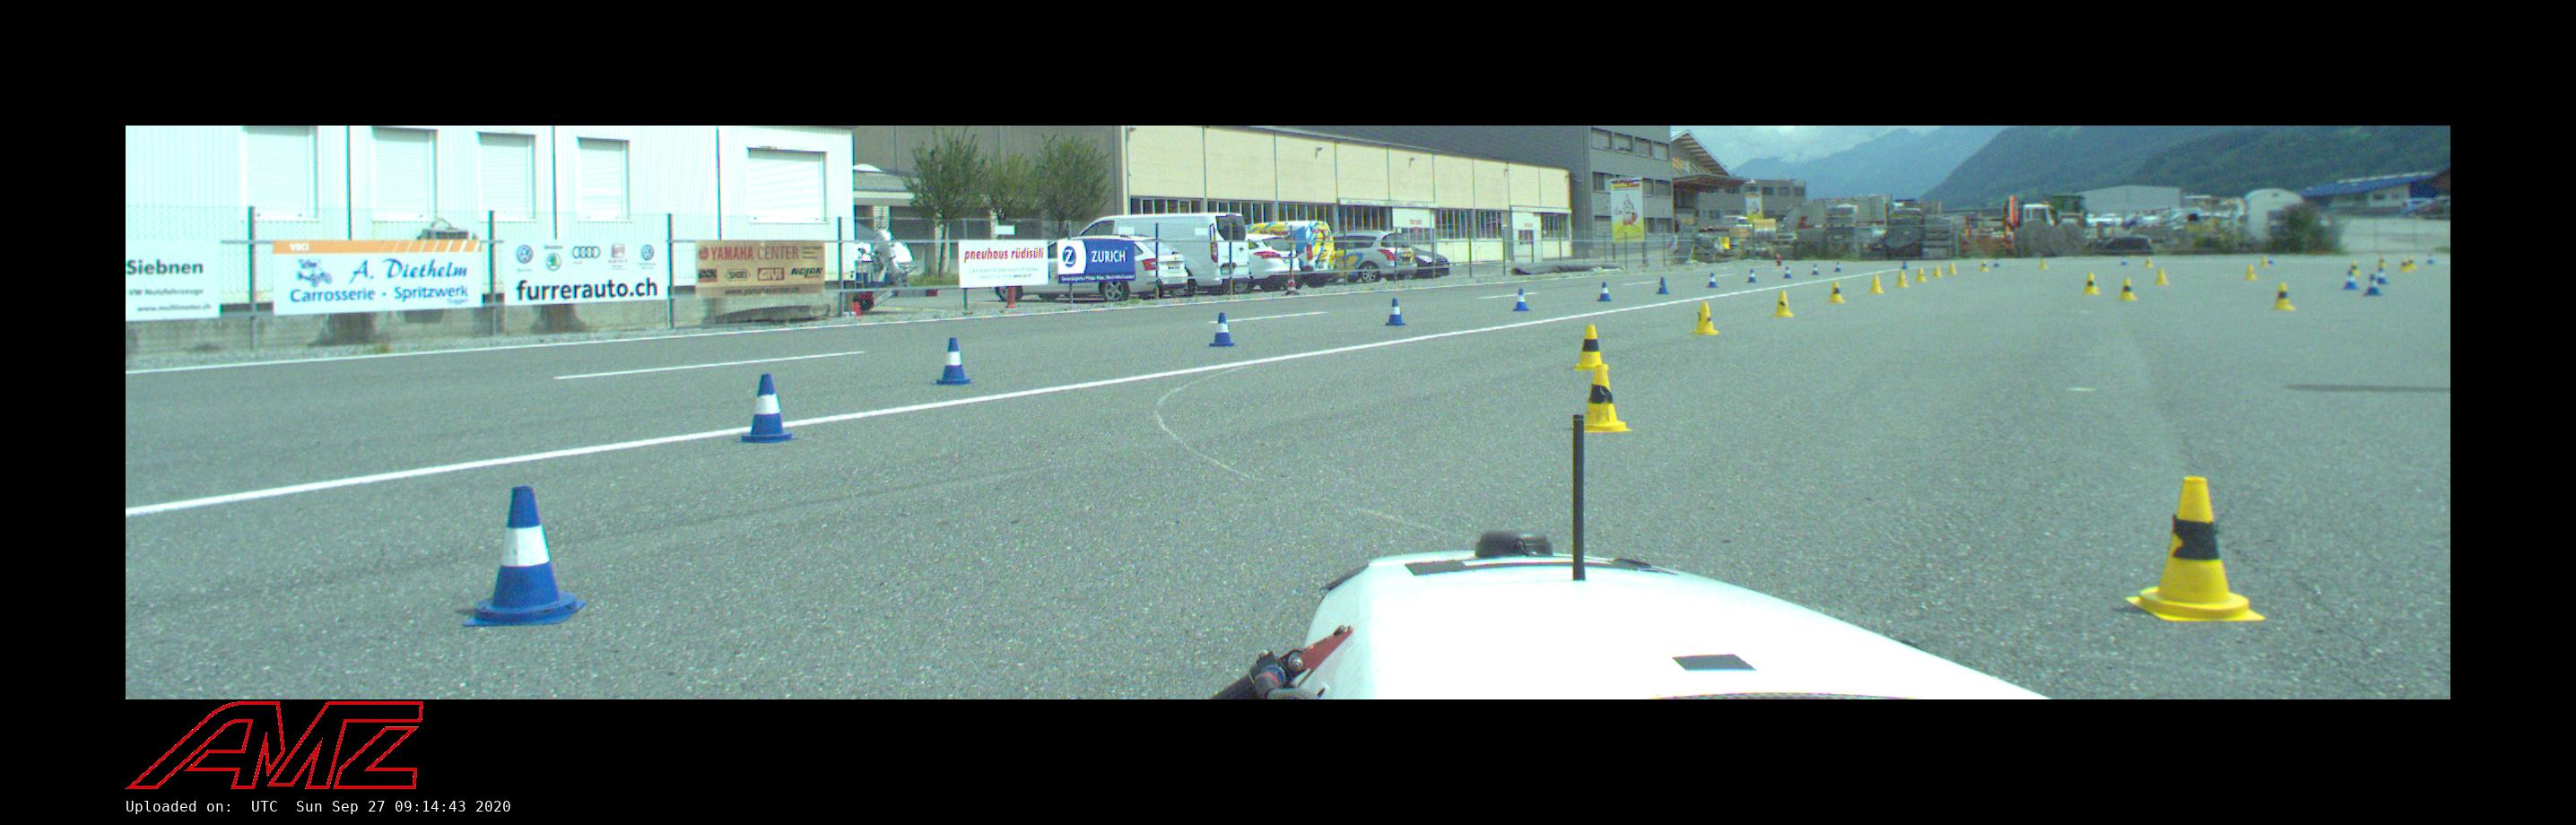blue_cone: (462, 486, 588, 626), (734, 375, 798, 444), (932, 339, 974, 385), (1209, 312, 1235, 347), (1387, 299, 1406, 325), (1513, 289, 1529, 311), (2364, 274, 2380, 294), (1597, 283, 1612, 301), (2343, 271, 2357, 289), (1656, 278, 1669, 294), (1707, 273, 1718, 288), (2377, 268, 2387, 283), (1748, 270, 1756, 283)
yellow_cone: (2124, 477, 2266, 621), (1584, 365, 1631, 431), (1572, 325, 1608, 370), (1692, 302, 1718, 335), (2272, 283, 2295, 311), (1773, 291, 1792, 317), (2083, 271, 2100, 294), (2118, 279, 2136, 299), (1828, 281, 1843, 302), (1868, 276, 1884, 293), (2154, 268, 2169, 284), (1896, 271, 1909, 288), (1916, 268, 1925, 281)
